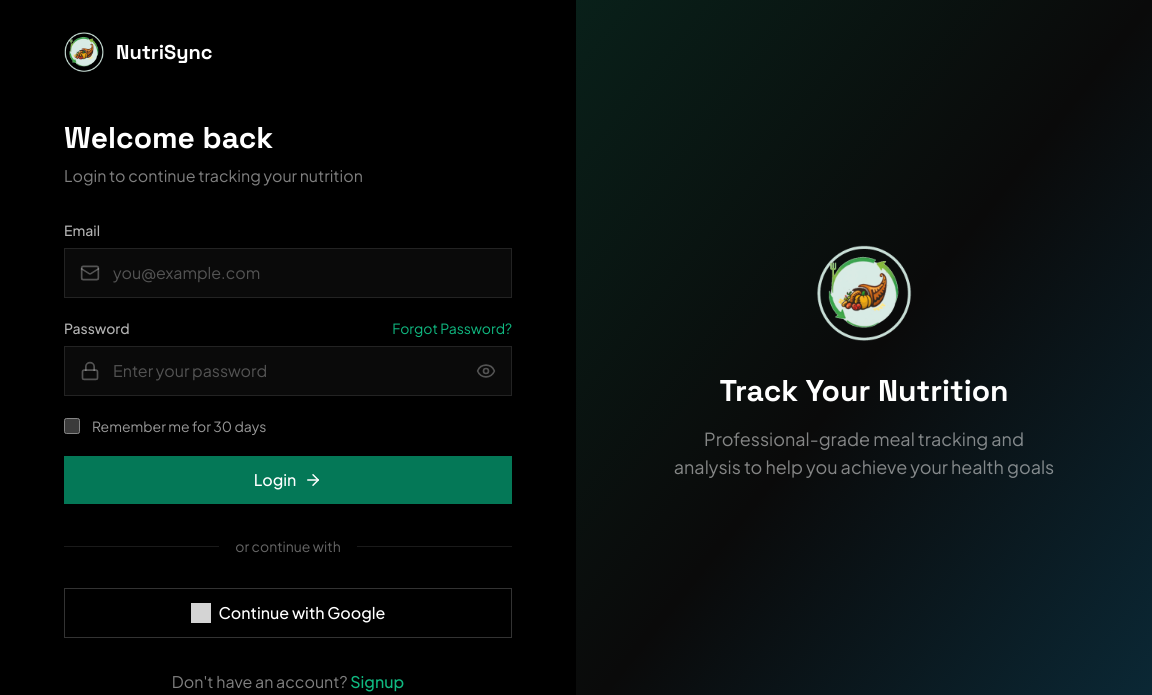
Test case: Login Page › shows link to signup page when no account found
The image size is (1152, 695).
Type "test@example.com" into the field with placeholder "you@example.com" at (288, 273), box [64,248,512,298]
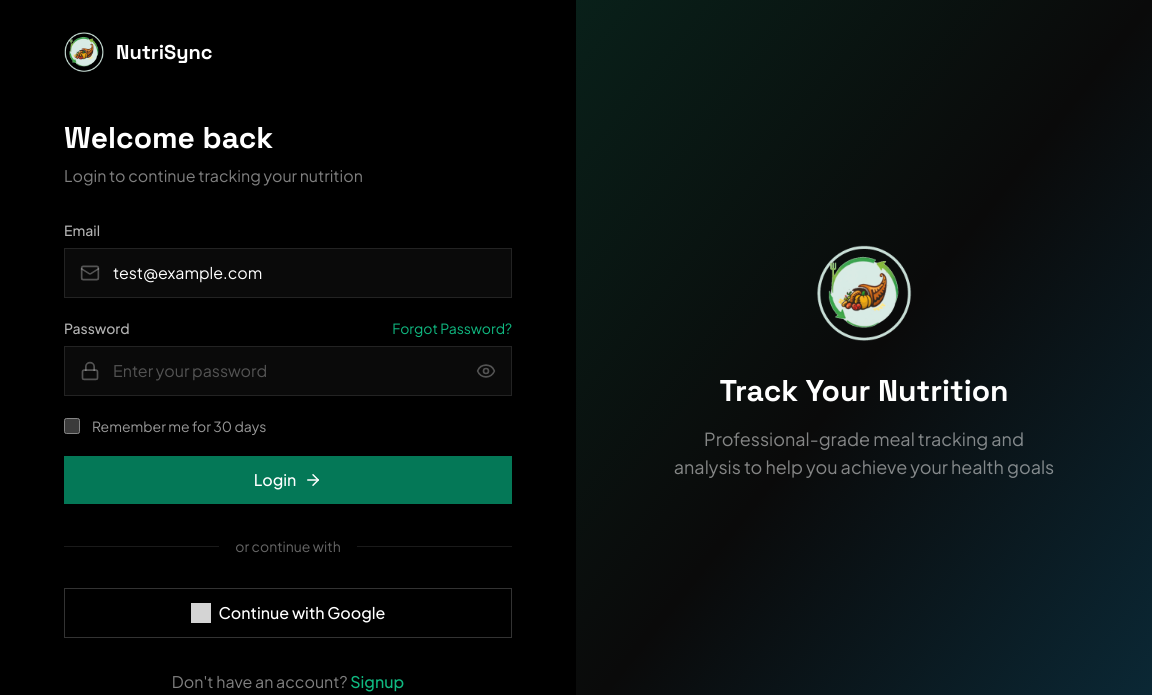
Type "ValidPass123!" into the password field with placeholder "Enter your password" at (288, 371), box [64,346,512,396]
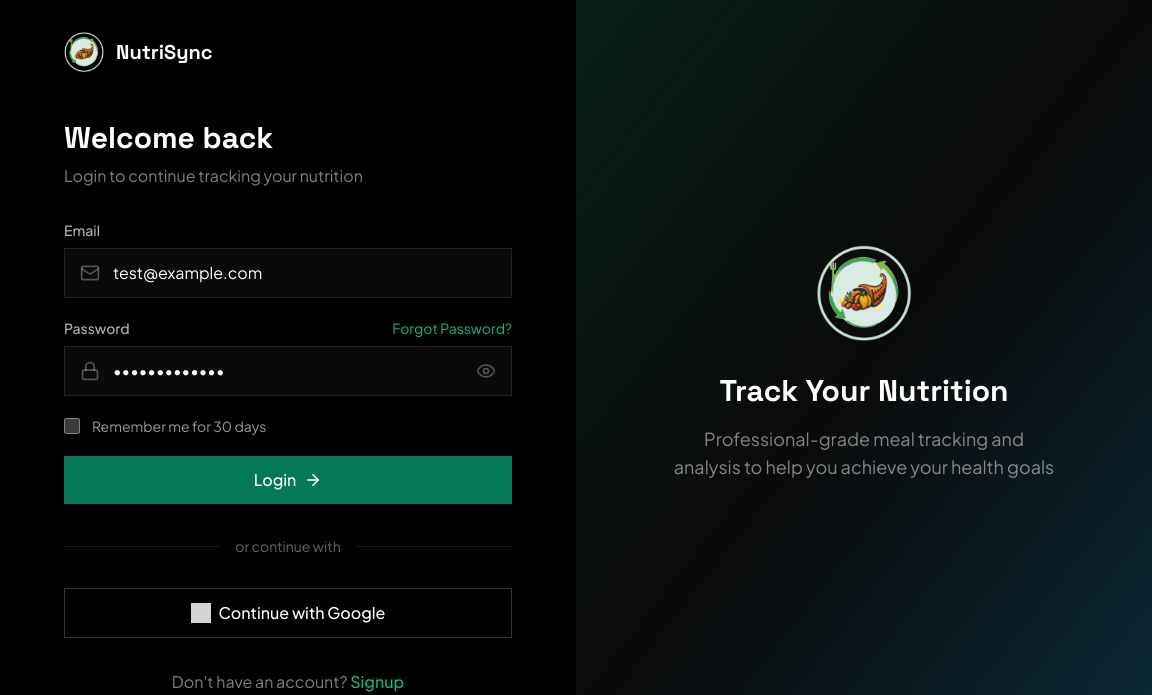
Click the button "Login" at (288, 480), box [64,456,512,504]
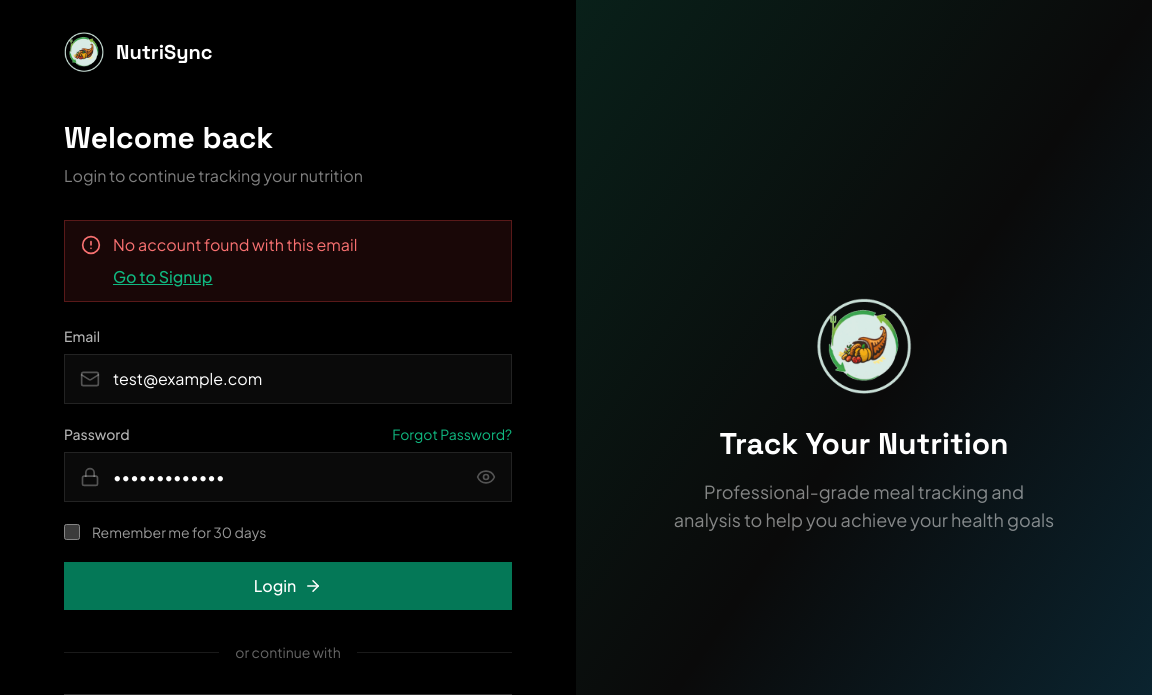
Now the link "Go to Signup" is shown, box [113,266,213,287]
